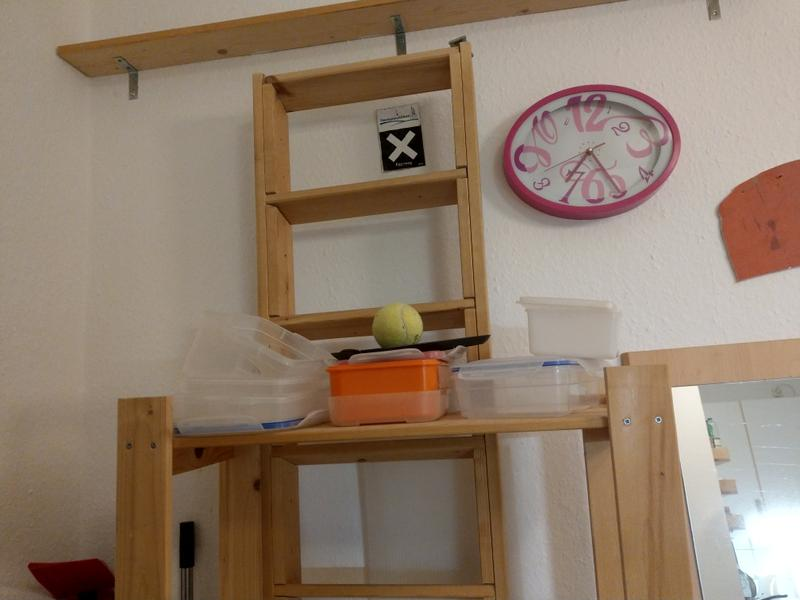Tennisball: (370, 299, 427, 350)
